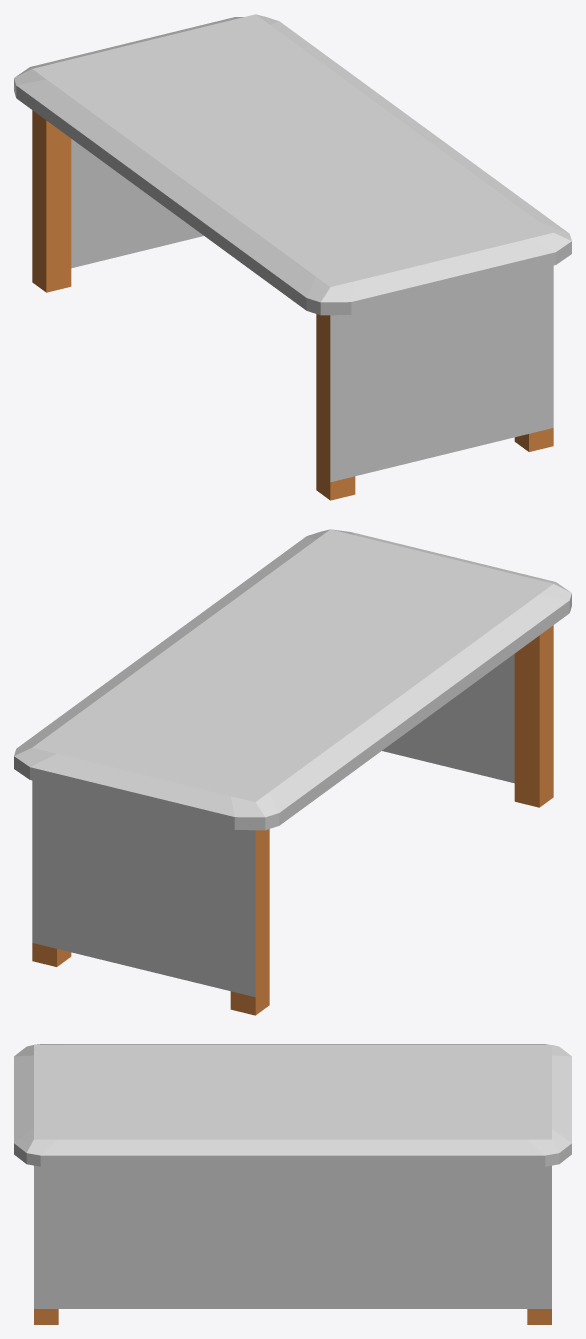
File: professortable.fbx
The picture shows the model from 3 angles, top to bottom: view 1: azimuth 30°, elevation 25°; view 2: azimuth 150°, elevation 25°; view 3: azimuth 270°, elevation 25°; orthographic projection. The views are drawn at different scales.
Parts seen in each view (by area): view 1: Cube; view 2: Cube; view 3: Cube.
Boxes of the visible parts, box(x1,y1,x2,y2) form: Cube: box(14, 14, 571, 500); Cube: box(14, 529, 571, 1015); Cube: box(14, 1044, 571, 1324).
Size of the model in its own units: 76.4 by 59.21 by 162.
